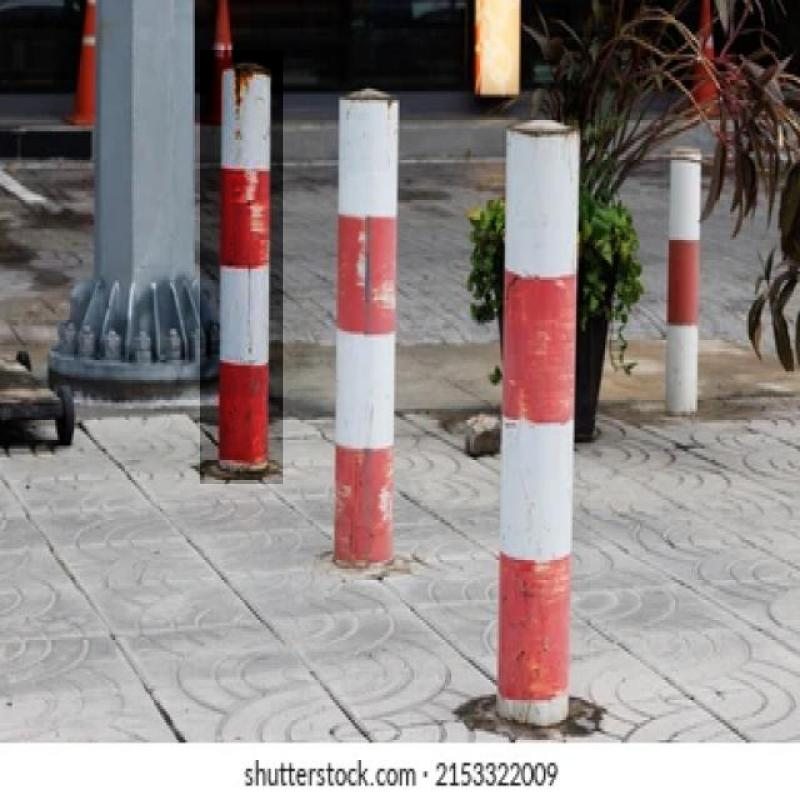pillar: (502, 104, 590, 730), (332, 65, 412, 591), (200, 50, 283, 484), (664, 146, 718, 430)
